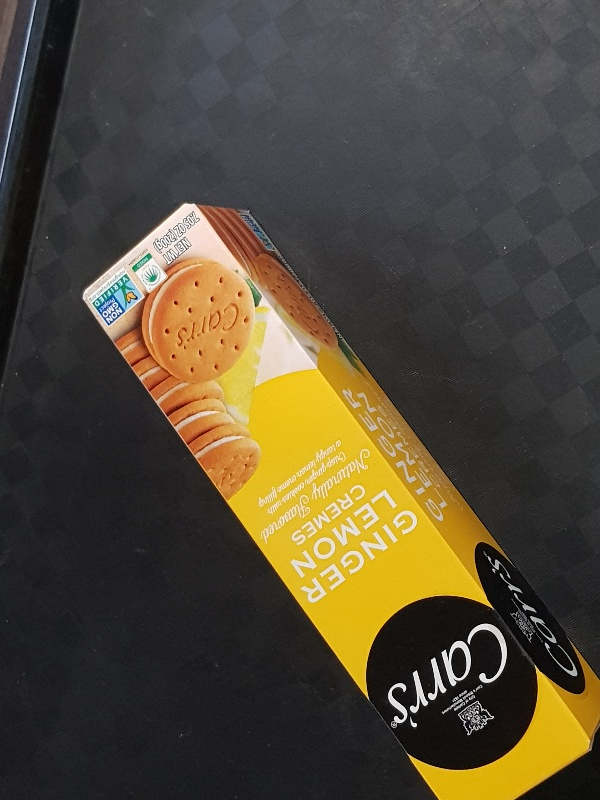Carr's Ginger Lemon Cremes: (82, 201, 599, 800)
